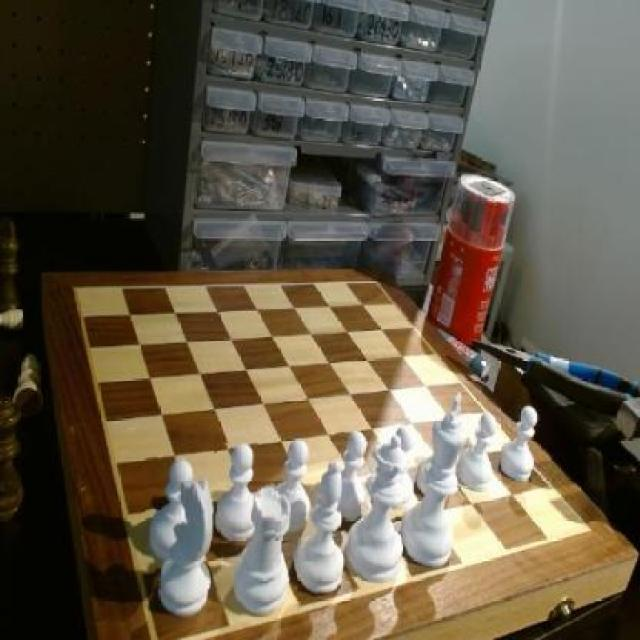black-rook: (292, 462, 360, 598)
white-bishop: (406, 394, 467, 572)
white-king: (156, 480, 224, 622)
white-knight: (146, 455, 197, 561), (215, 441, 263, 544), (275, 437, 310, 539), (457, 412, 502, 491), (502, 406, 544, 488), (332, 434, 368, 515), (386, 426, 413, 508)
white-pawn: (345, 438, 409, 577)
white-queen: (223, 486, 299, 617)
